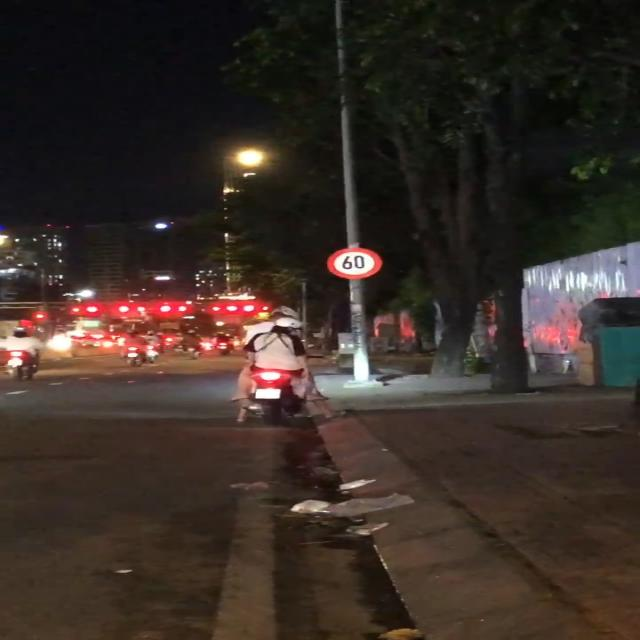Bien bao toc do toi da cho phep: (322, 245, 383, 280)
